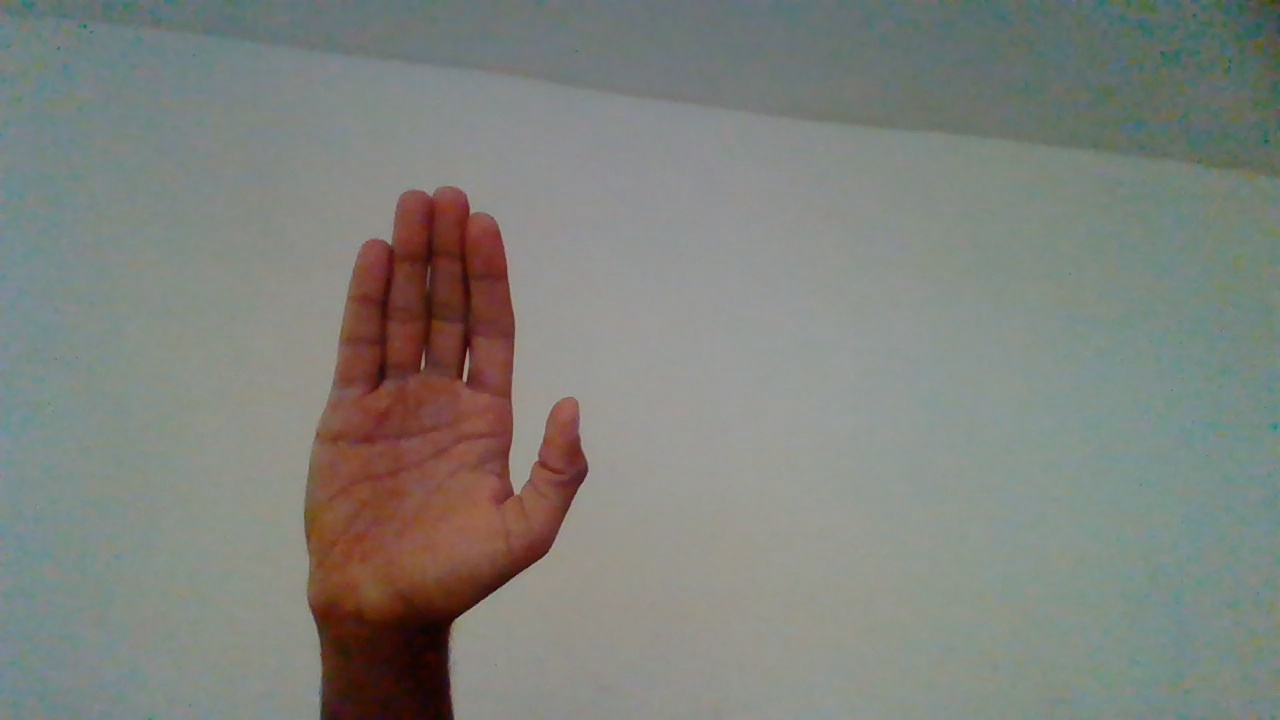ha: (306, 177, 594, 685)
